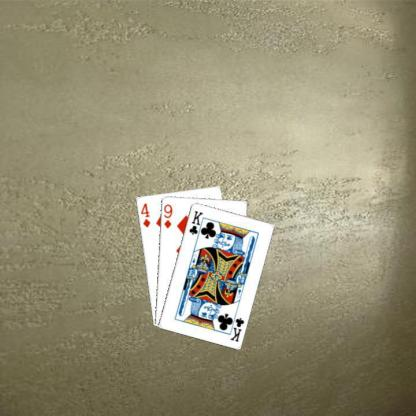4D: (138, 201, 151, 228)
9D: (162, 201, 174, 229)
KC: (226, 310, 245, 342), (187, 208, 205, 240)
